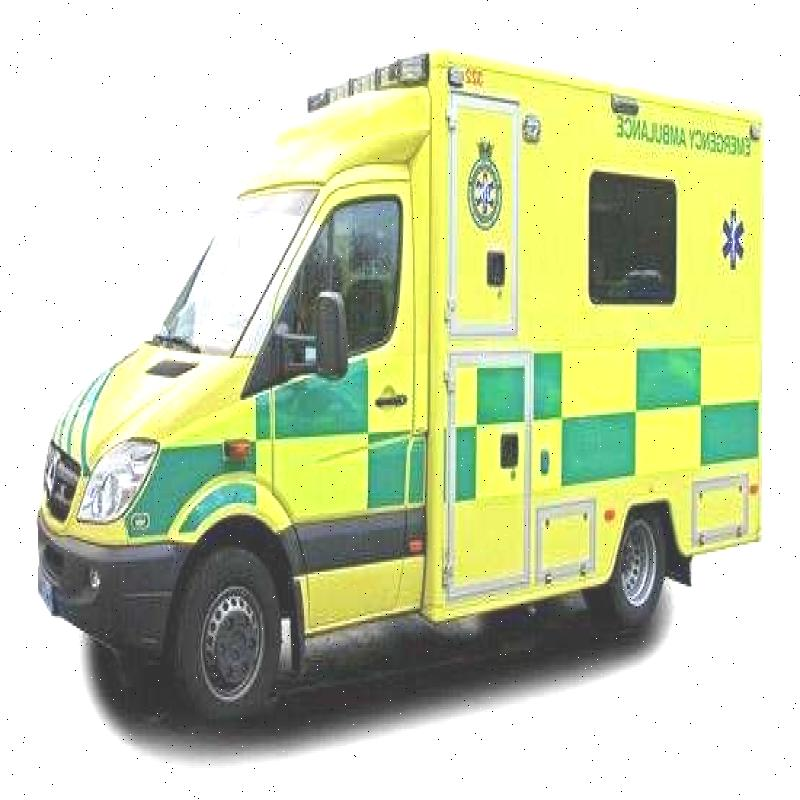AmbulanceSiren: (285, 34, 433, 127)
